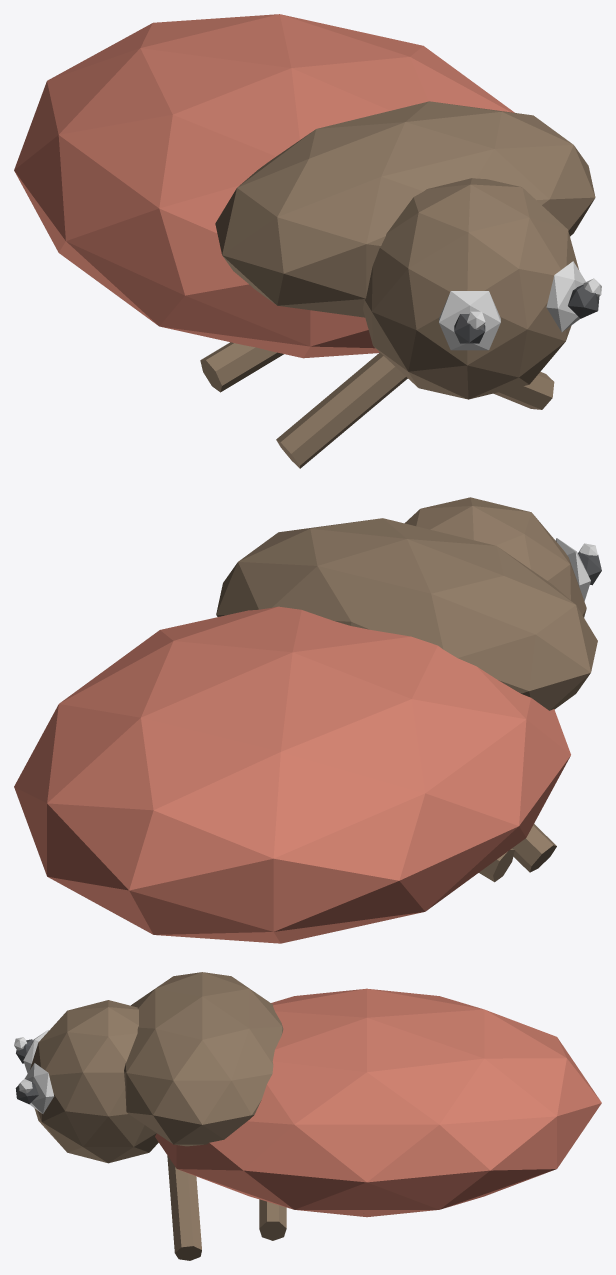
The model's file is dysdercus-cingulatus.glb.
The picture shows the model from 3 angles, top to bottom: view 1: azimuth 30°, elevation 25°; view 2: azimuth 150°, elevation 25°; view 3: azimuth 270°, elevation 25°; orthographic projection. The views are drawn at different scales.
Parts seen in each view (by area): view 1: body, pronotum, head, leg0-l, f-eye-r, leg1-l, f-eye-l, leg0-r, f-pupil-l, f-pupil-r; view 2: body, pronotum, head, leg0-l, f-eye-r; view 3: body, pronotum, head, leg0-r, leg1-r, f-eye-l.
Part boxes in pixels (bbox=[...]): body: bbox=[14, 14, 514, 358]; pronotum: bbox=[215, 101, 595, 317]; head: bbox=[363, 178, 579, 399]; leg0-l: bbox=[276, 352, 407, 468]; f-eye-r: bbox=[439, 291, 500, 350]; leg1-l: bbox=[200, 342, 283, 392]; f-eye-l: bbox=[546, 261, 585, 332]; leg0-r: bbox=[493, 372, 554, 409]; f-pupil-l: bbox=[568, 284, 599, 318]; f-pupil-r: bbox=[454, 314, 485, 343]; body: bbox=[14, 606, 570, 943]; pronotum: bbox=[216, 518, 597, 710]; head: bbox=[405, 497, 586, 617]; leg0-l: bbox=[512, 824, 556, 872]; f-eye-r: bbox=[555, 538, 590, 601]; body: bbox=[155, 988, 601, 1217]; pronotum: bbox=[124, 972, 283, 1146]; head: bbox=[30, 1000, 158, 1163]; leg0-r: bbox=[167, 1155, 201, 1260]; leg1-r: bbox=[259, 1199, 286, 1240]; f-eye-l: bbox=[24, 1063, 53, 1113].
Size of the model in its own units: 0.32 by 0.2096 by 0.5004.
